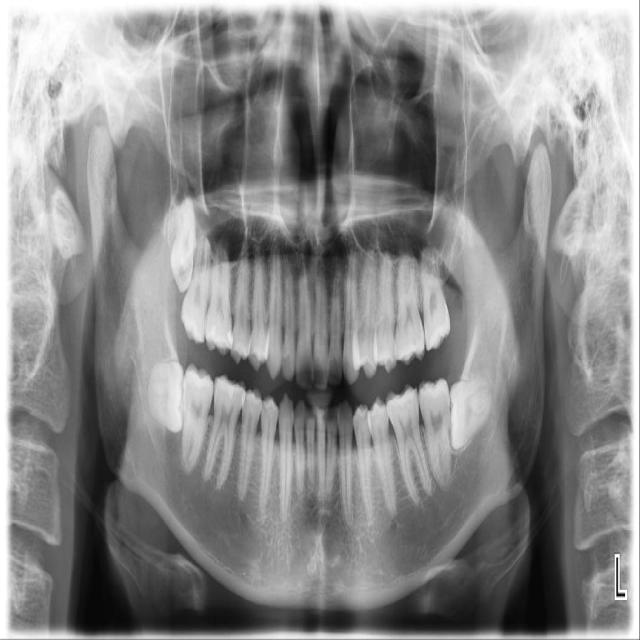impacted tooth: (449, 367, 492, 450), (171, 194, 197, 291), (147, 362, 182, 430)
